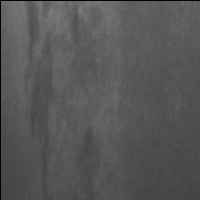inclusion: (22, 2, 57, 200), (62, 2, 106, 81), (73, 123, 103, 200)
